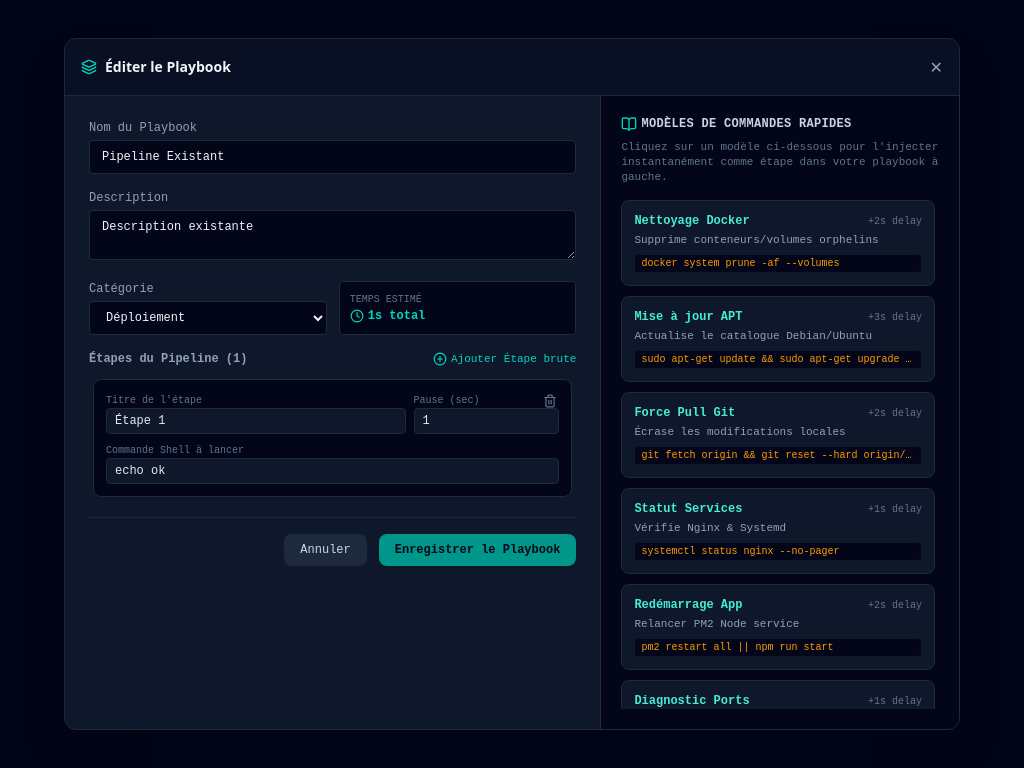
Test: PlaybookFormModal › modifie la pause et la commande d'une étape puis la retire
Replace the text in the number field with "5" at (486, 421), box [414,408,559,434]
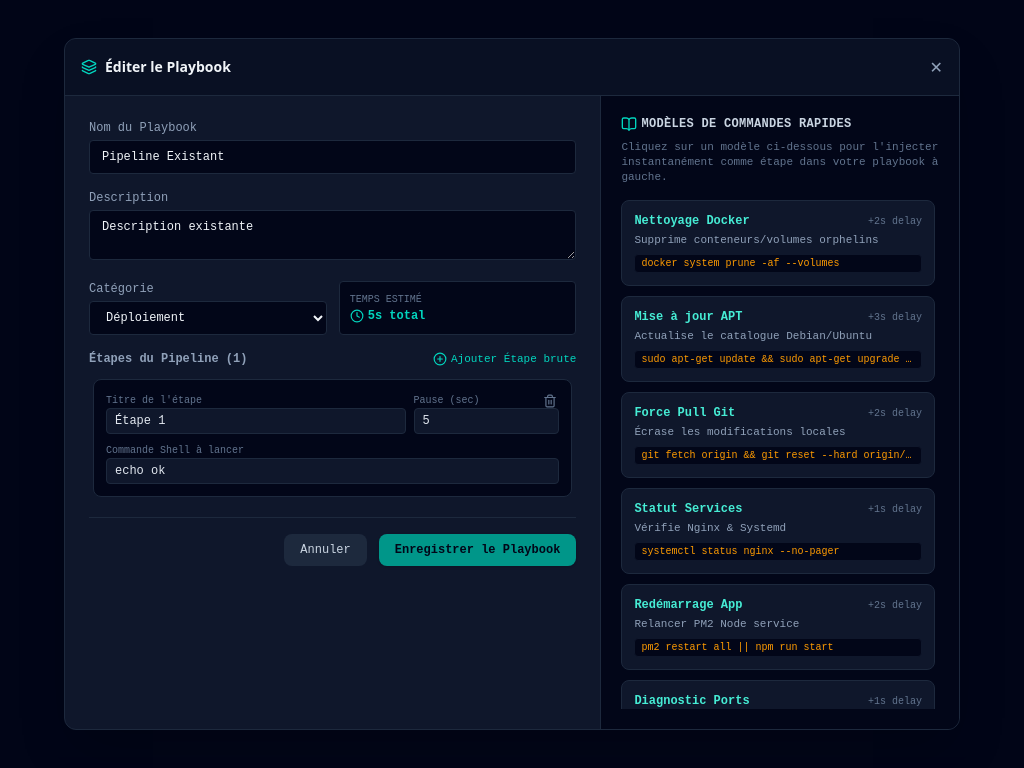
Commande de l'étape
Replace the text in the field showing "echo ok" below "Commande Shell à lancer" with "echo modifié" at (333, 471), box [106,458,559,484]
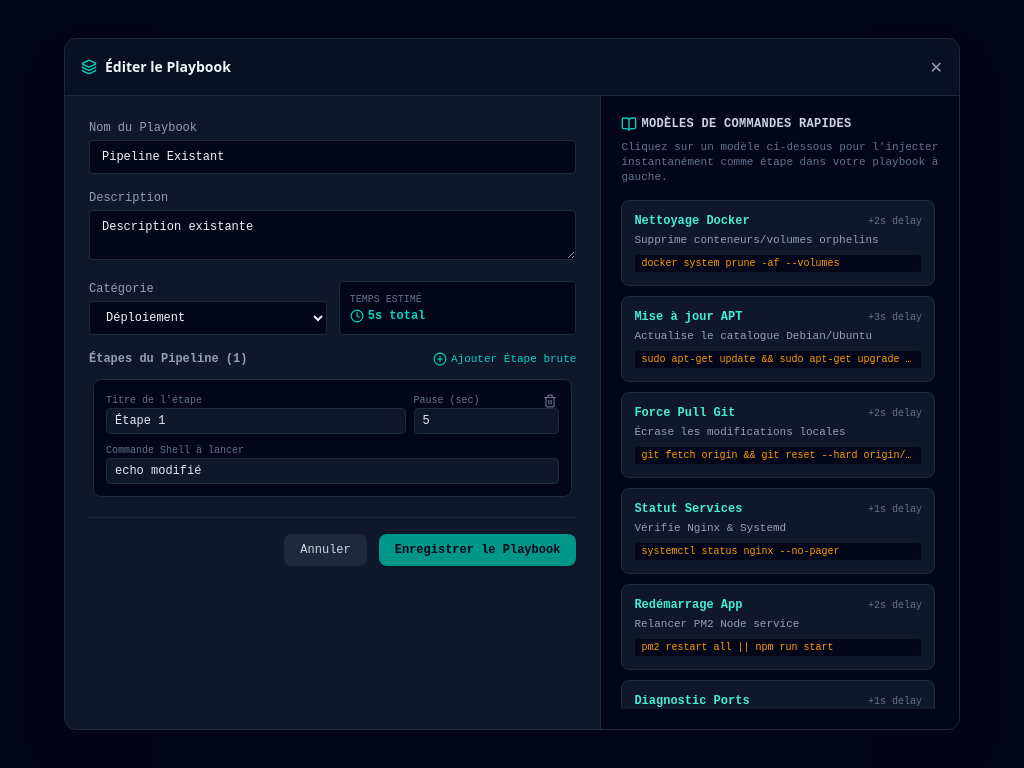
Retrait de l'étape → plus aucune étape
Click the button named "Retirer l'étape Étape 1" at (550, 401), box [539,390,561,412]
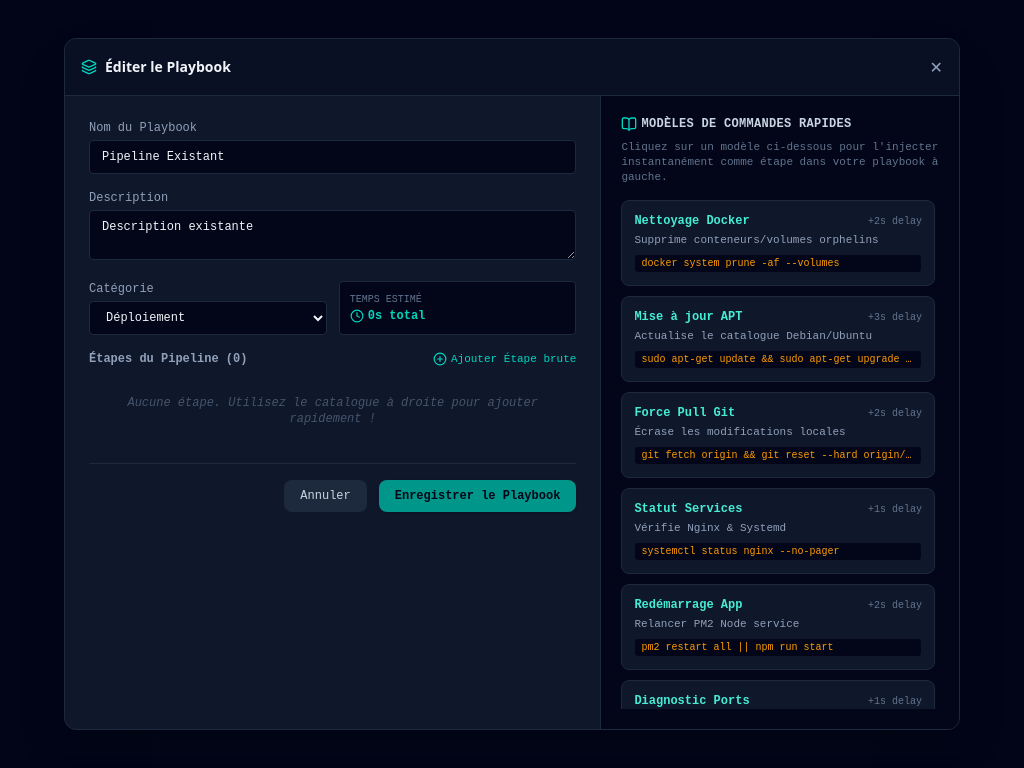
Expected: the text "Étapes du Pipeline (0)" is shown, [89,351,247,367]
